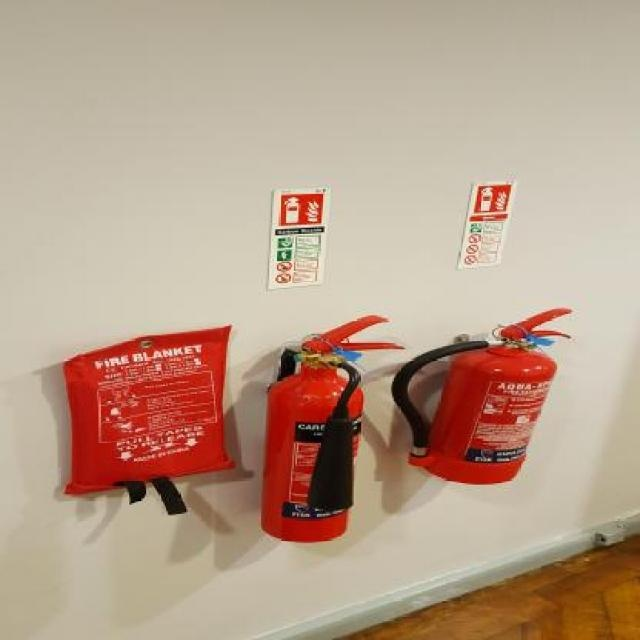fire extinguisher: (255, 314, 401, 541), (393, 307, 567, 484)
